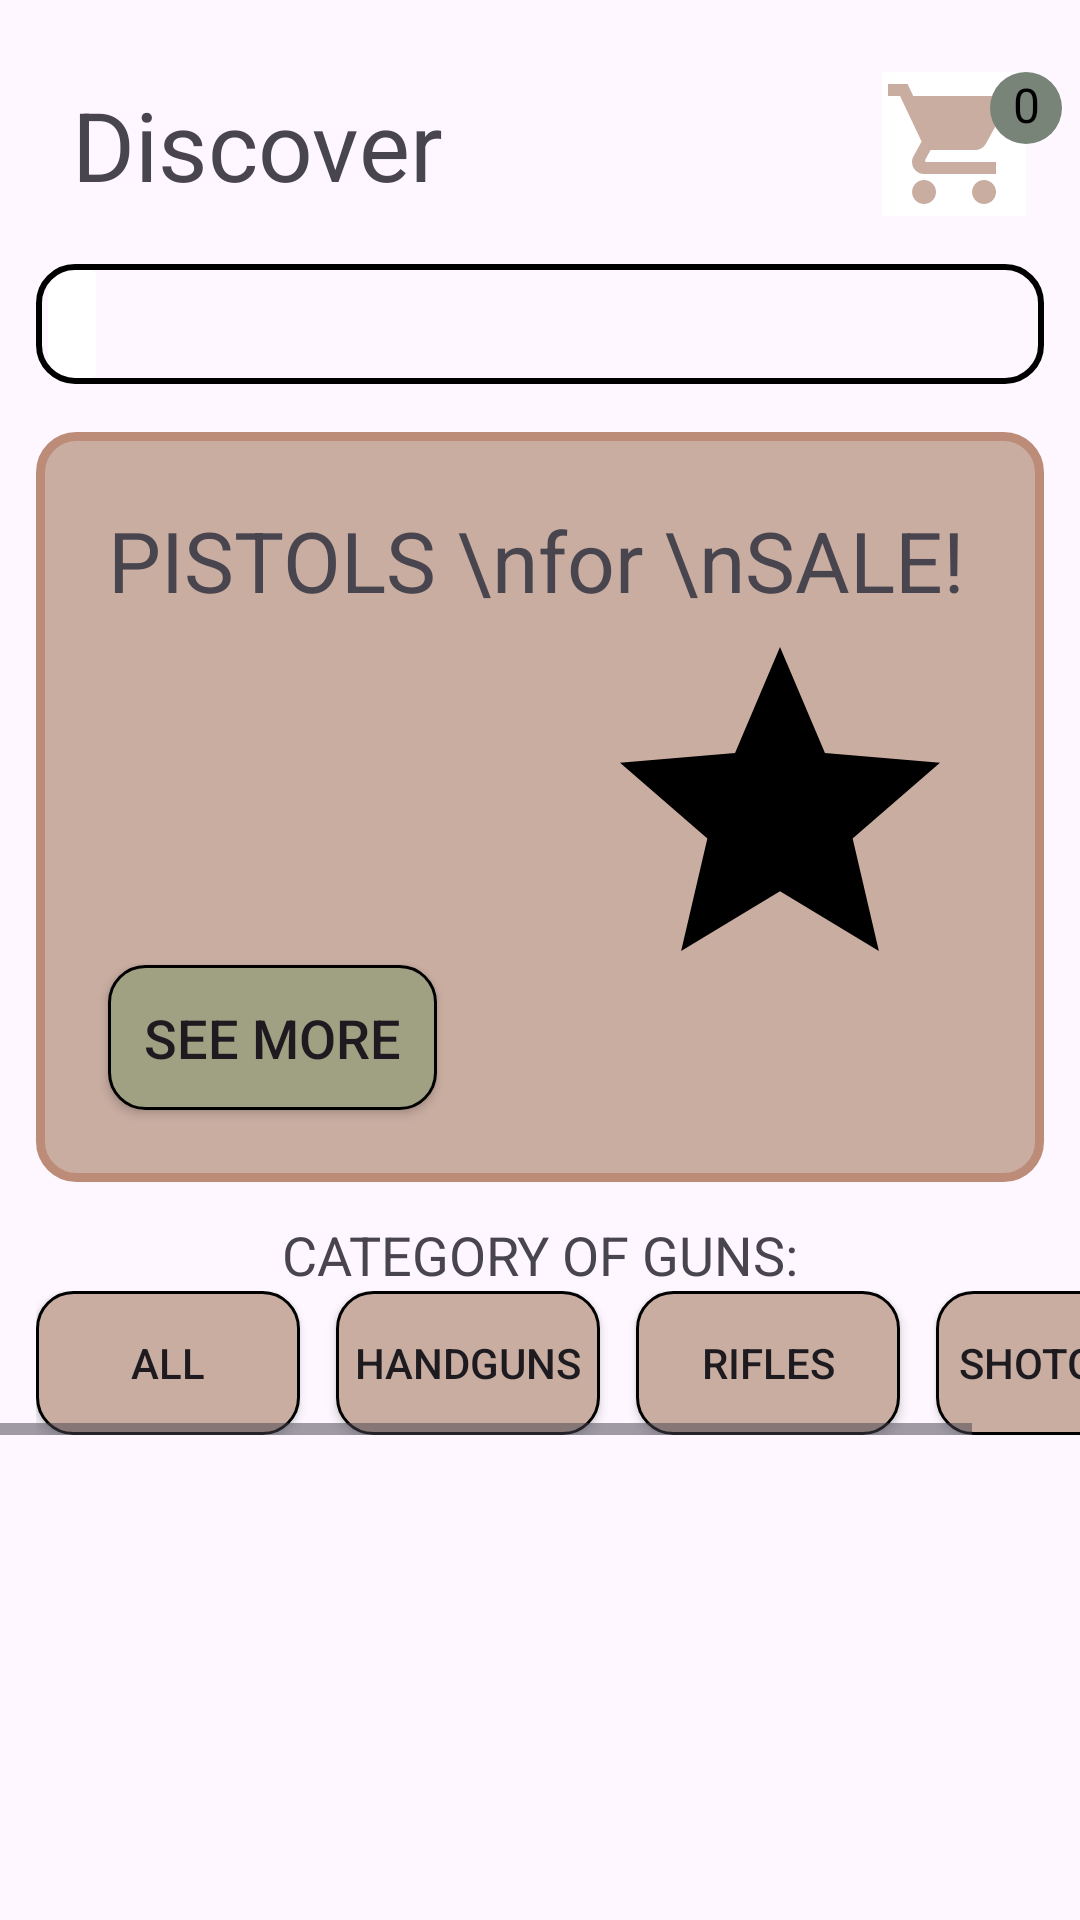

Named icons in this screenshot (1080w x 1920h) and their centers, [x,y]:
CART: [957,138]
